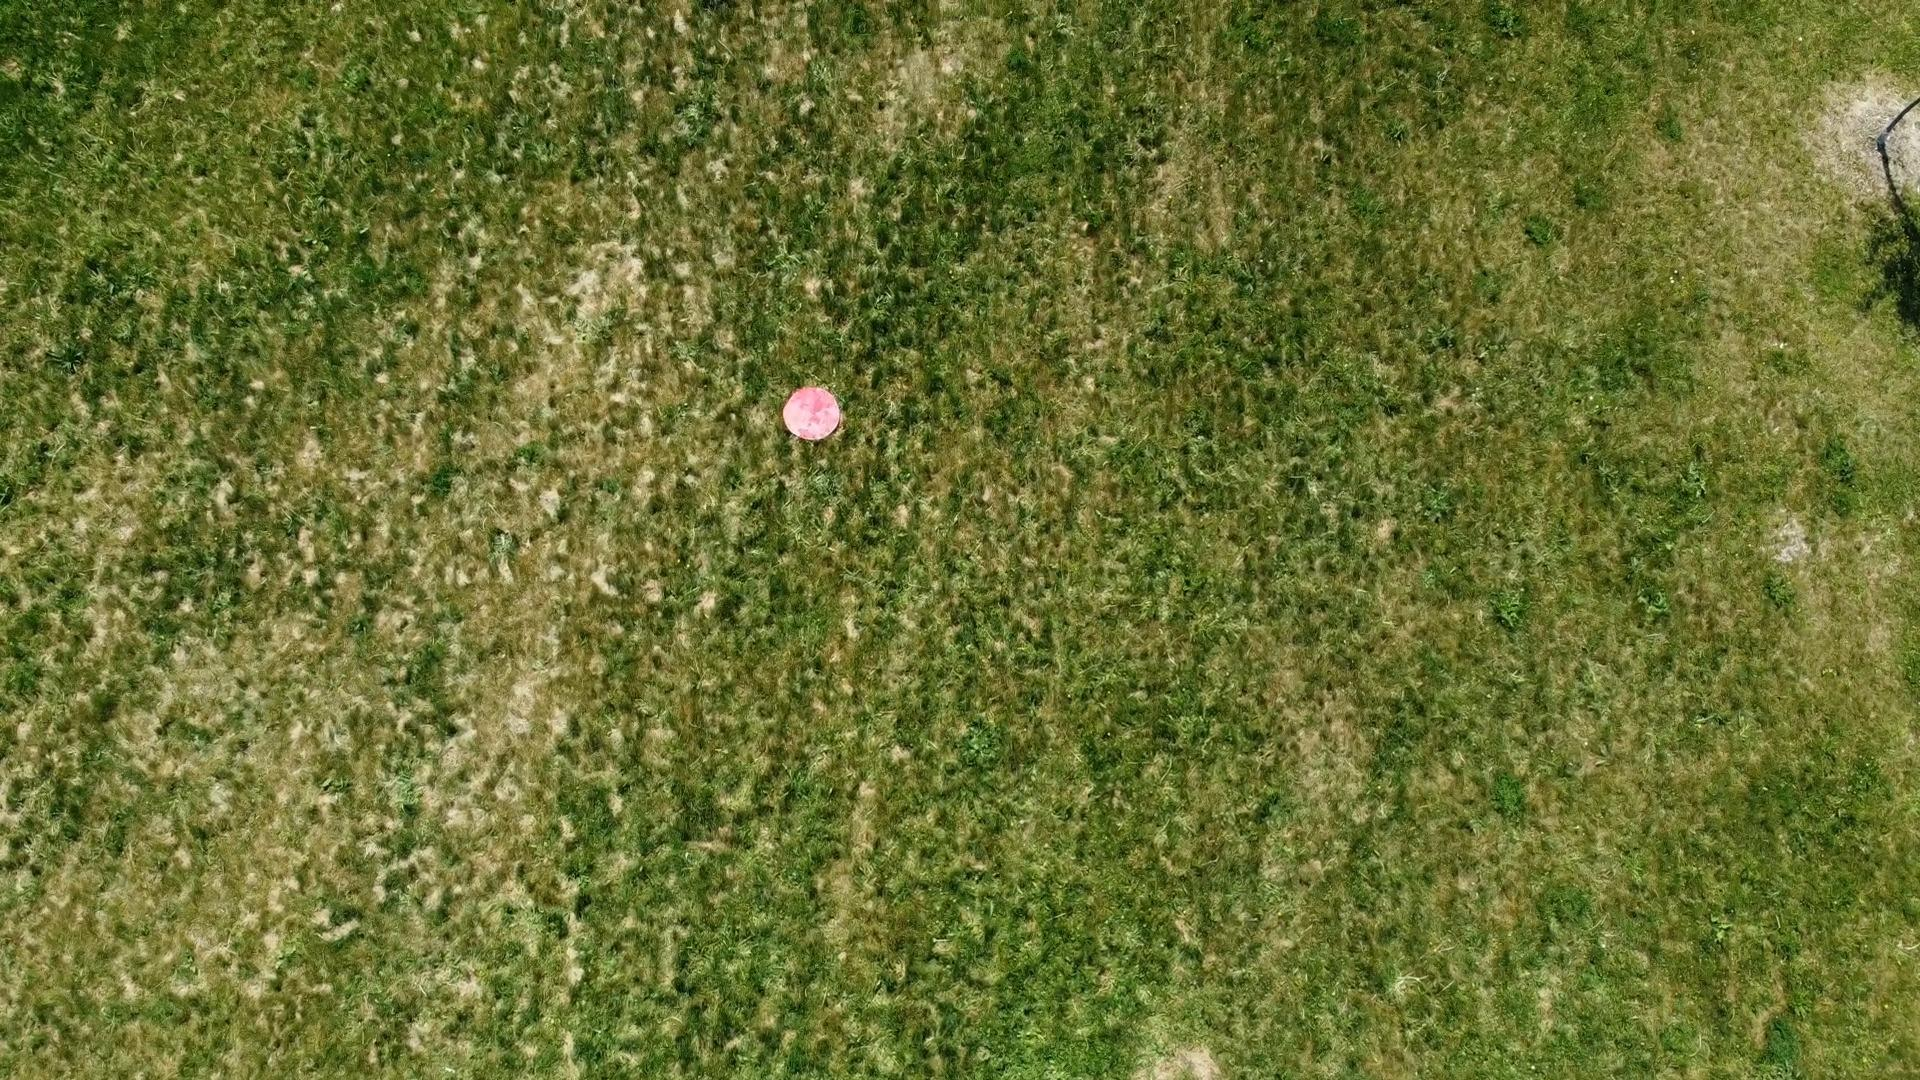Red: (781, 384, 844, 443)
